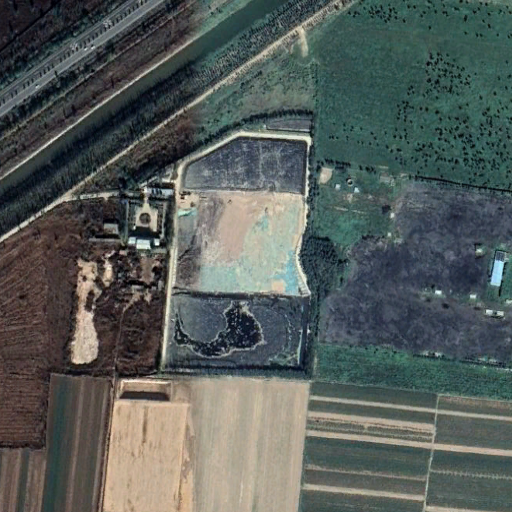lf: (161, 138, 311, 371)
